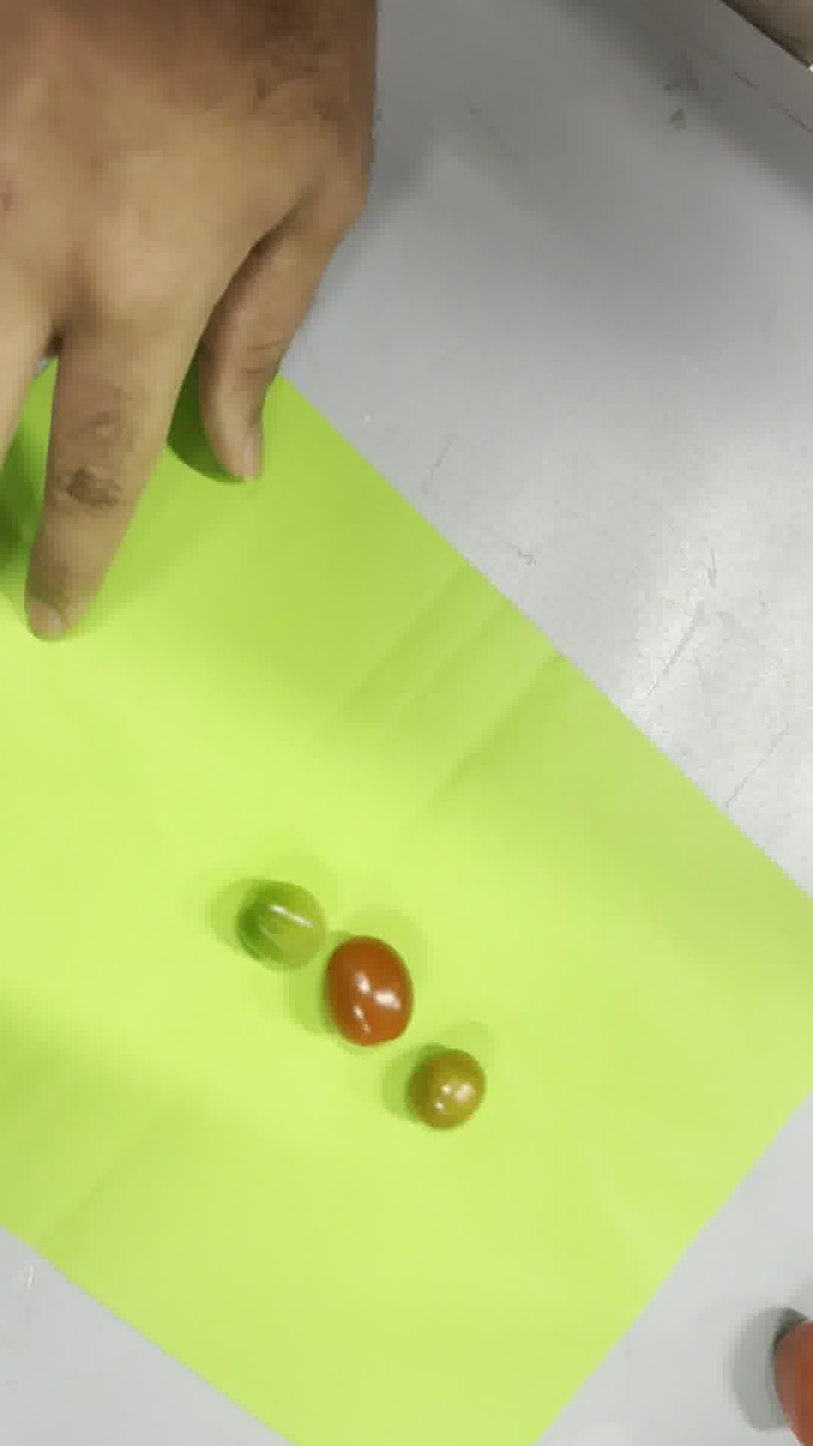green_cherry_tomato: (238, 882, 325, 965)
red_cherry_tomato: (325, 936, 413, 1045)
yellow_cherry_tomato: (413, 1050, 485, 1128)
